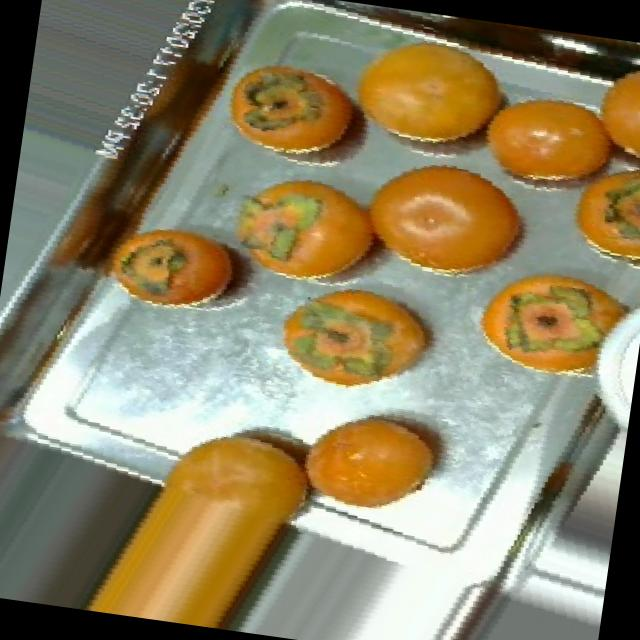Fruit: (338, 144, 556, 308), (328, 24, 540, 170), (258, 269, 460, 416), (457, 249, 640, 404), (94, 200, 284, 343), (284, 384, 468, 528), (462, 74, 640, 219), (222, 155, 410, 292), (208, 40, 384, 179), (555, 149, 640, 265)
